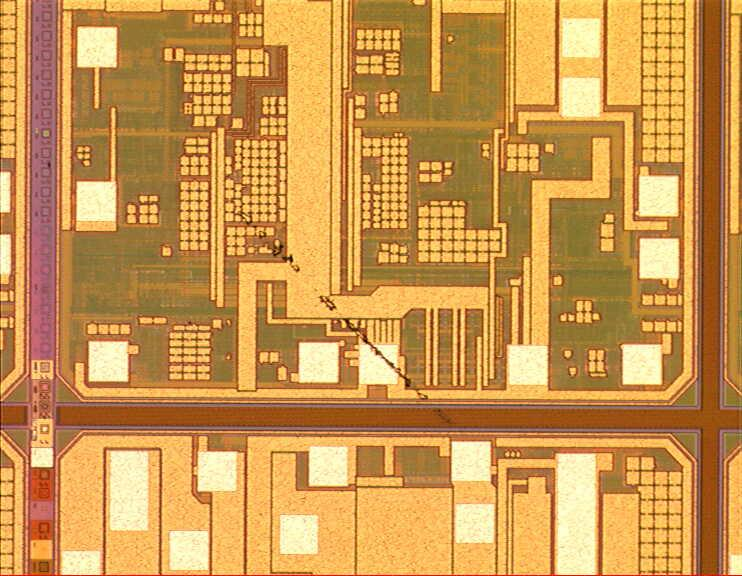SCRATCH: (233, 198, 490, 453)
